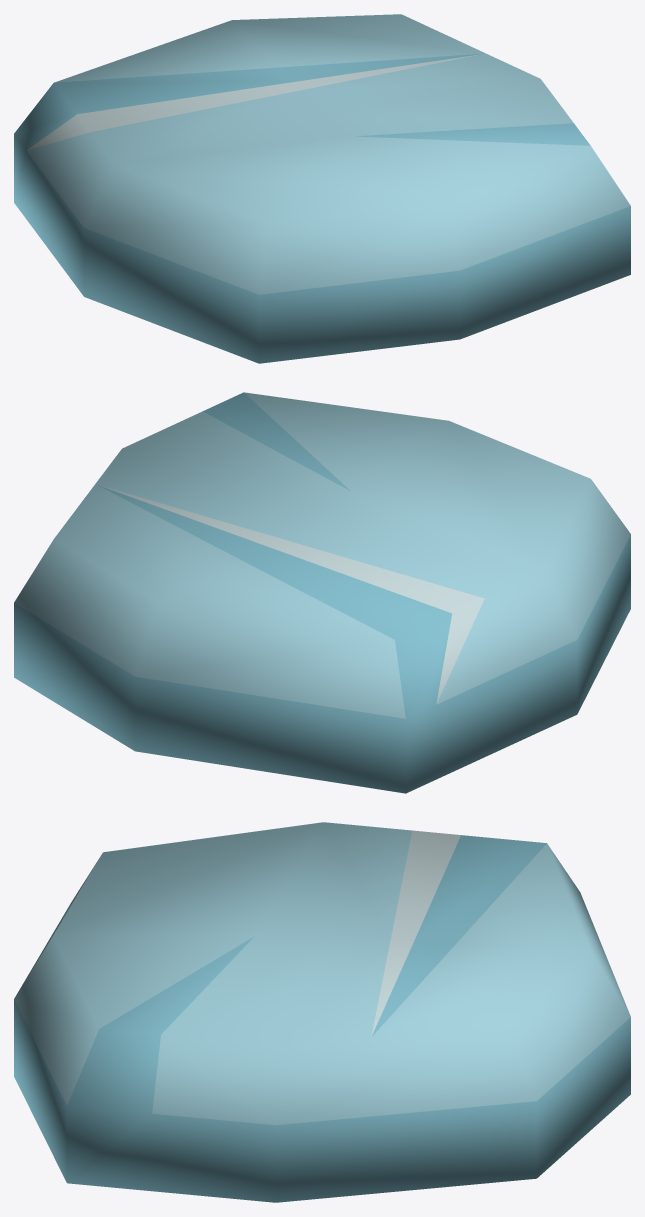
Rendered from Glacier2.fbx.
3 renders of one model, top to bottom at view 1: azimuth 30°, elevation 25°; view 2: azimuth 150°, elevation 25°; view 3: azimuth 270°, elevation 25°, orthographic. The views are drawn at different scales.
Parts seen in each view (by area): view 1: Plane.100; view 2: Plane.100; view 3: Plane.100.
Boxes of the visible parts, box(x1,y1,x2,y2) form: Plane.100: box(14, 14, 630, 363); Plane.100: box(14, 392, 630, 793); Plane.100: box(14, 822, 630, 1202).
Bounding box in the file's own units: 393 × 100 × 398.
